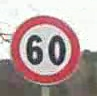limite 60: (9, 14, 81, 84)
